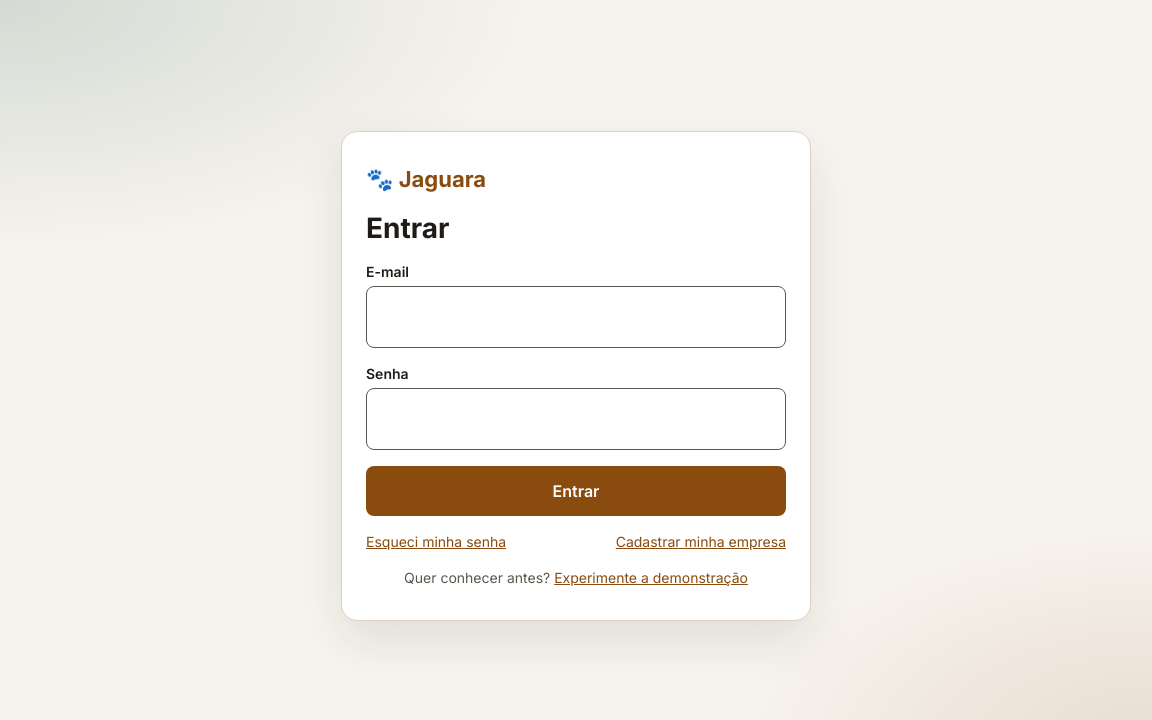
Tela de login da web (UC-02) › deve mandar o tutor para o app e encerrar a sessão quando ele tenta entrar na web
The image size is (1152, 720).
In the field labelled "E-mail": [576, 317] box [366, 286, 786, 348], type "clinica@exemplo.com"
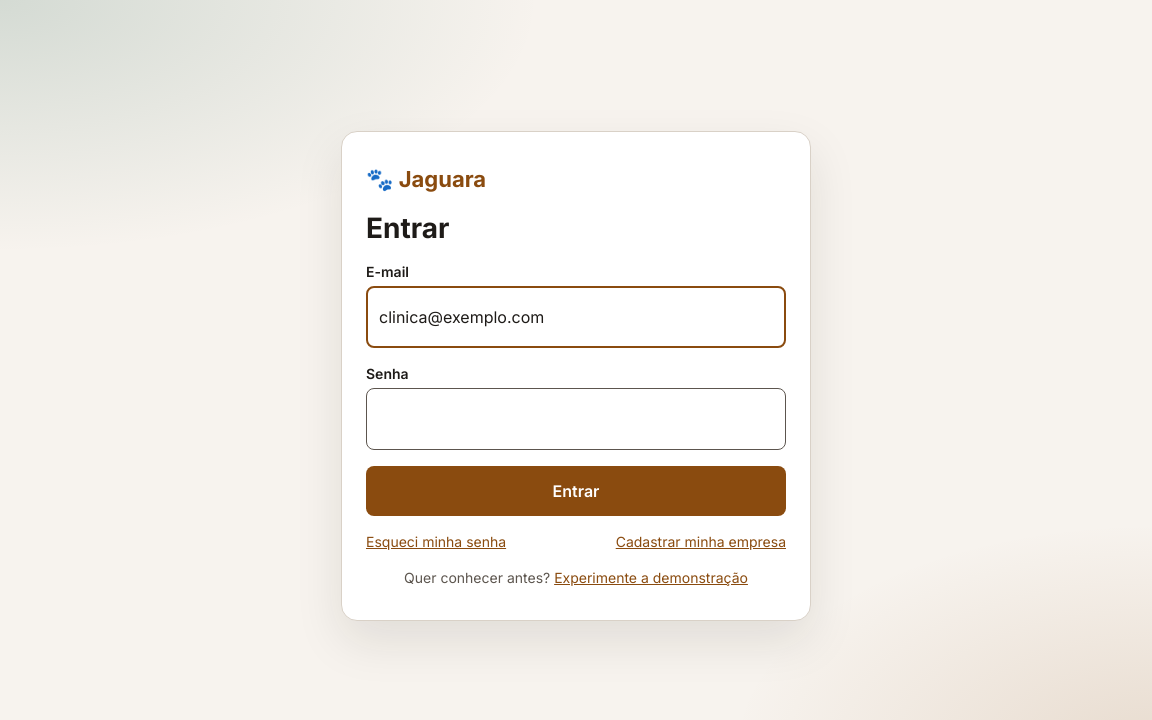
In the password field labelled "Senha": [576, 419] box [366, 388, 786, 450], type "Senha@123"
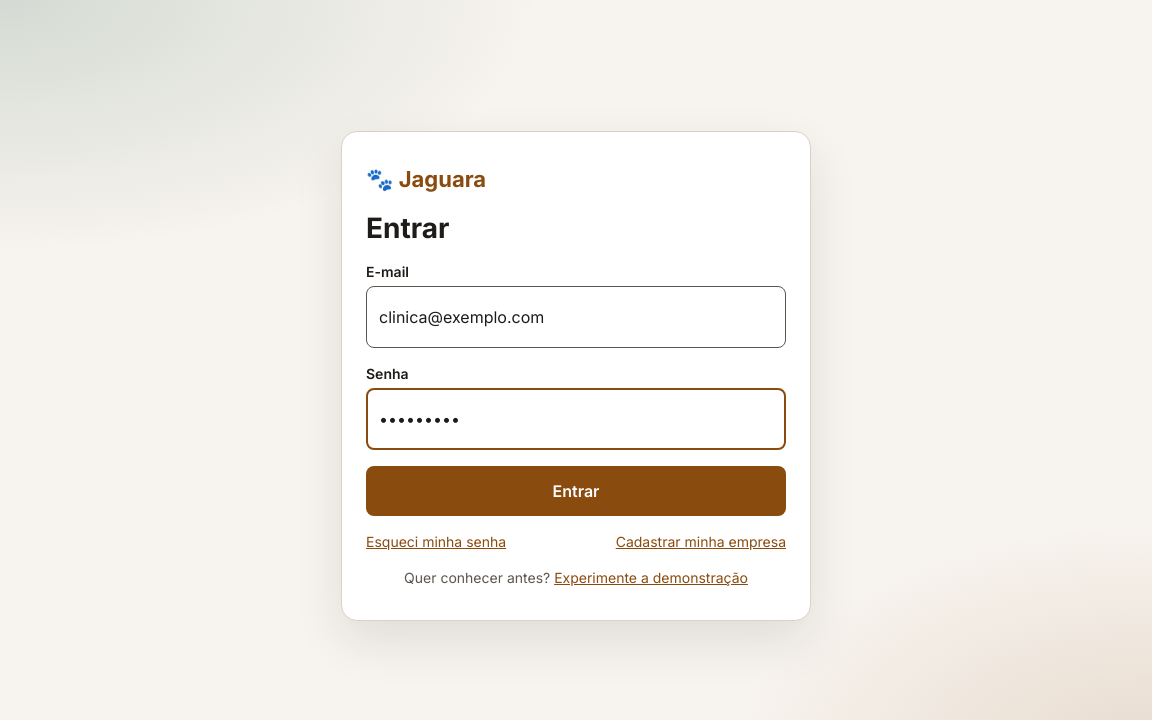
Click the button "Entrar": [576, 491] box [366, 466, 786, 516]
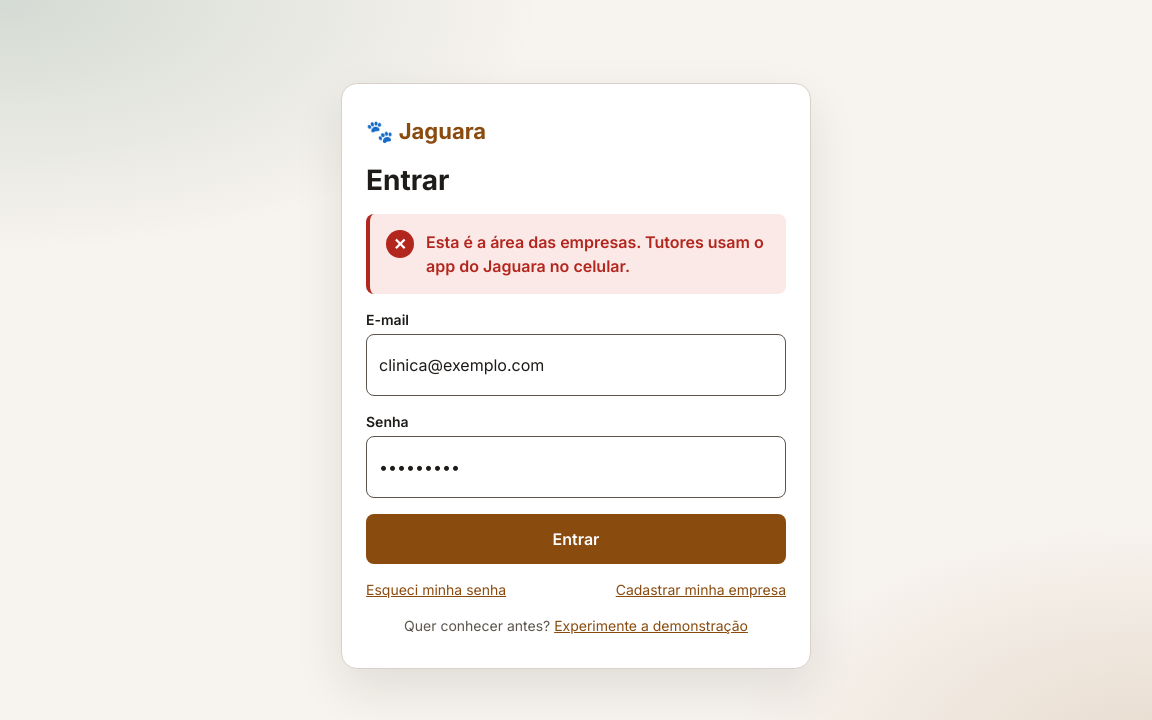
Expected: the message shows "Tutores usam o app", [426, 232, 764, 276]
